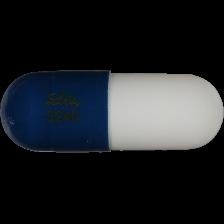55289-036: (0, 0, 224, 224)
